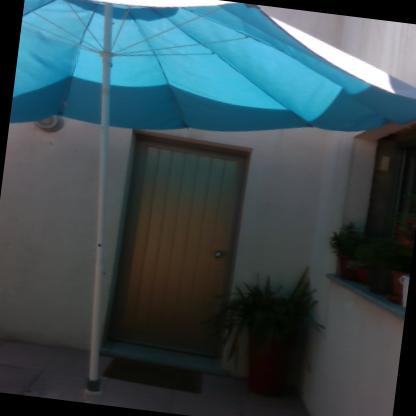closed: (96, 120, 264, 372)
